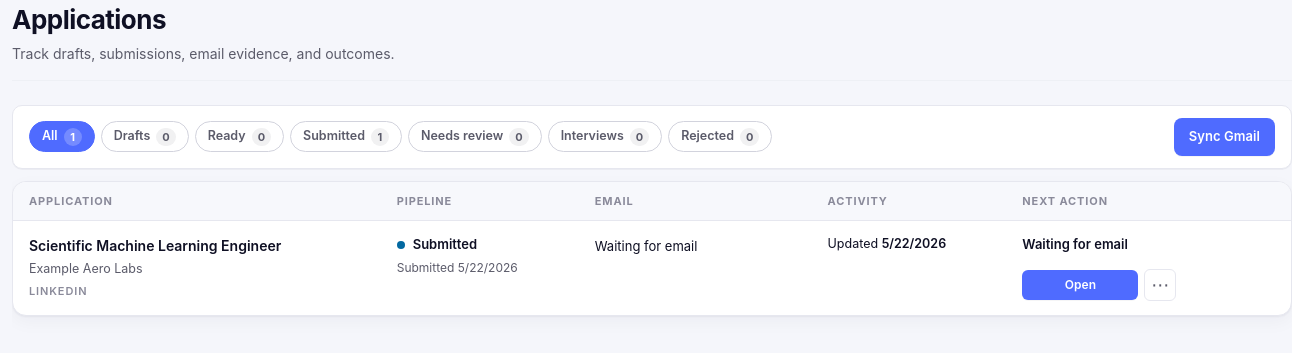
Test: ApplicationsPage Sync Gmail › shows a Gmail disconnected message when not connected
Expected: the heading "Applications" is shown, [12, 4, 166, 35]
Click the button "Sync Gmail" at (1224, 137), box [1174, 118, 1275, 156]
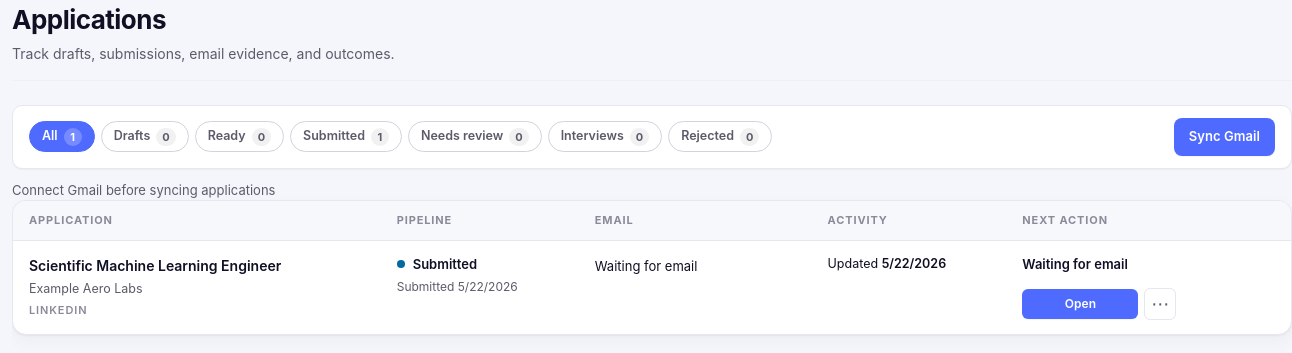
Expected: the text "Connect Gmail before syncing applications" is shown, [12, 182, 275, 198]
